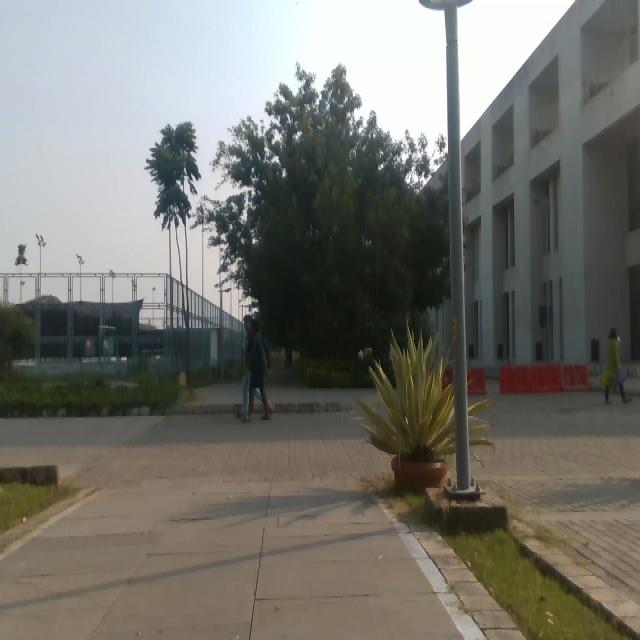lane: (1, 478, 464, 639)
